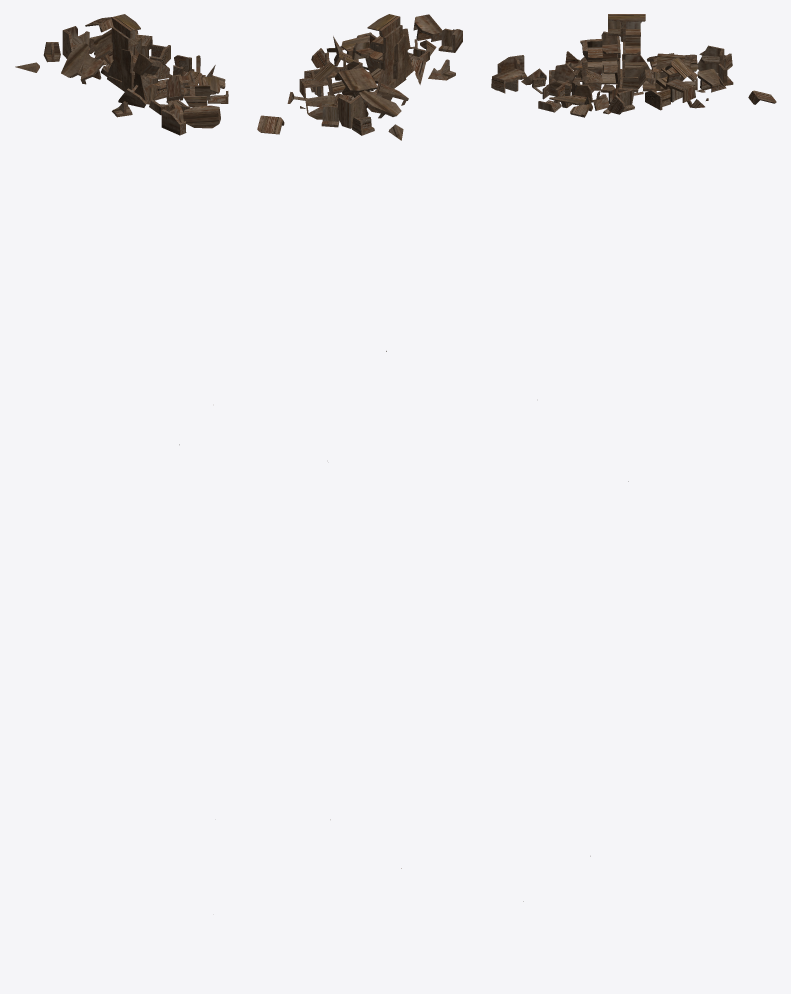
The model's file is brokenshelf.fbx.
The picture shows the model from 3 angles, left to right: view 1: azimuth 30°, elevation 25°; view 2: azimuth 150°, elevation 25°; view 3: azimuth 270°, elevation 25°; orthographic projection. The views are drawn at different scales.
Visible parts, largest first — view 1: Cube.004_cell.018; view 2: Cube.004_cell.018; view 3: Cube.004_cell.018.
Boxes of the visible parts, box(x1,y1,x2,y2) form: Cube.004_cell.018: box(15, 14, 228, 444); Cube.004_cell.018: box(257, 14, 462, 868); Cube.004_cell.018: box(491, 14, 776, 901).
Bounding box in the file's own units: 578 × 3692 × 1004.
Materials: 1 (1 with a texture image).
